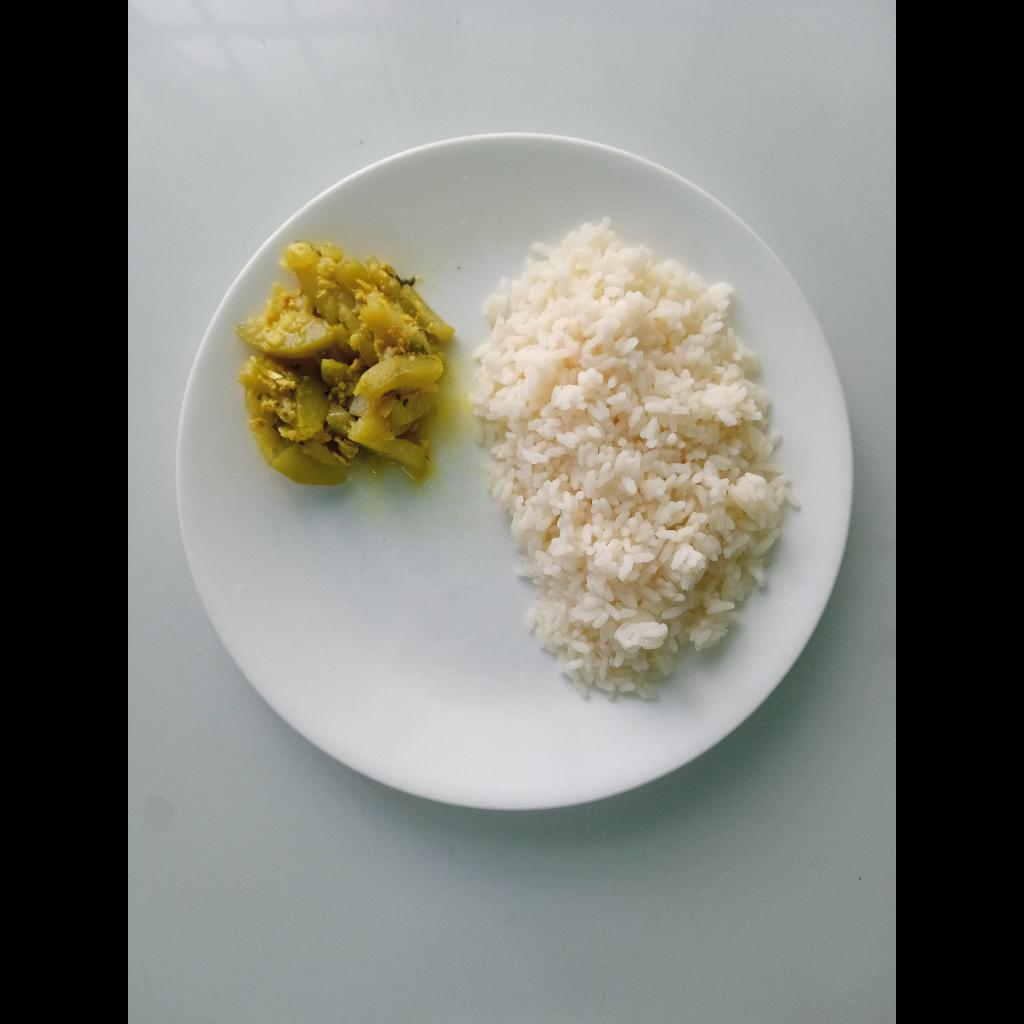lau: (248, 238, 450, 473)
rice: (468, 224, 803, 698)
